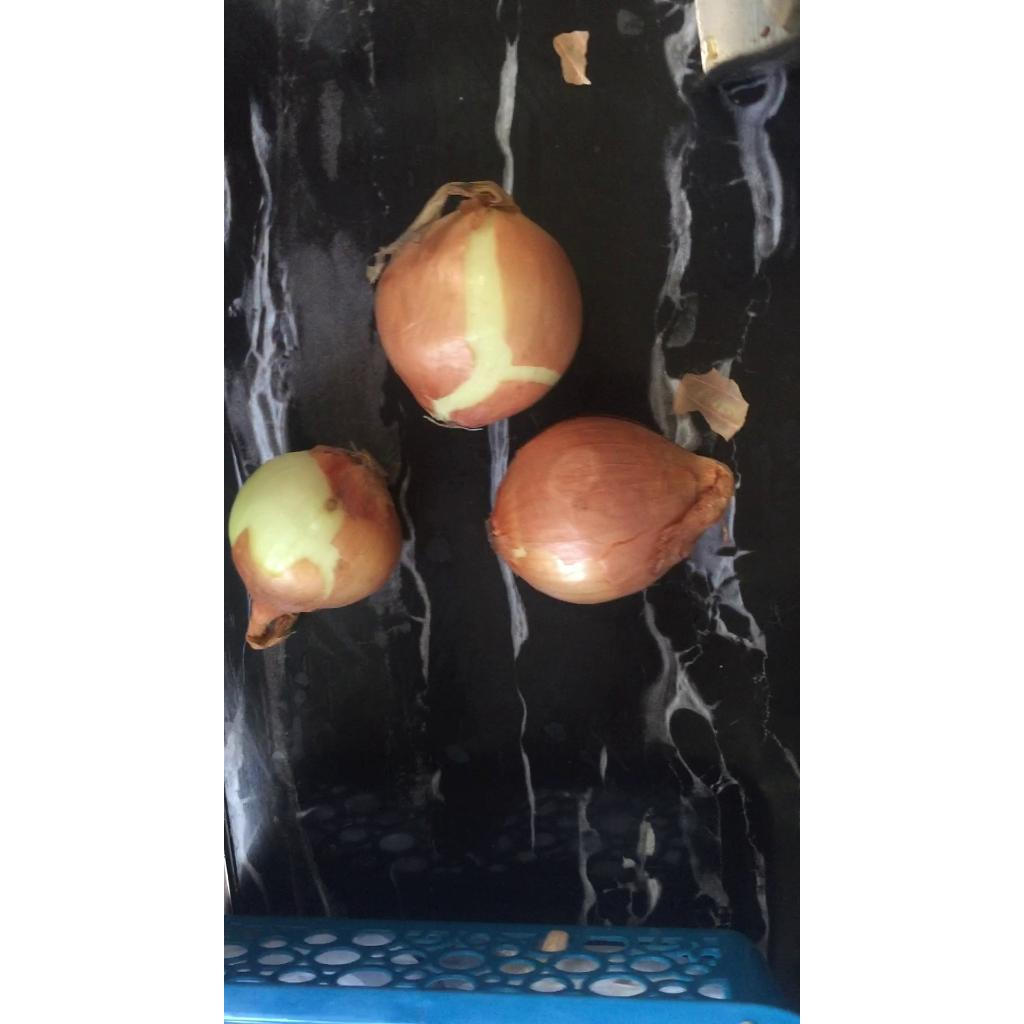Onion: (374, 184, 581, 427), (489, 417, 734, 604), (228, 446, 400, 649)
